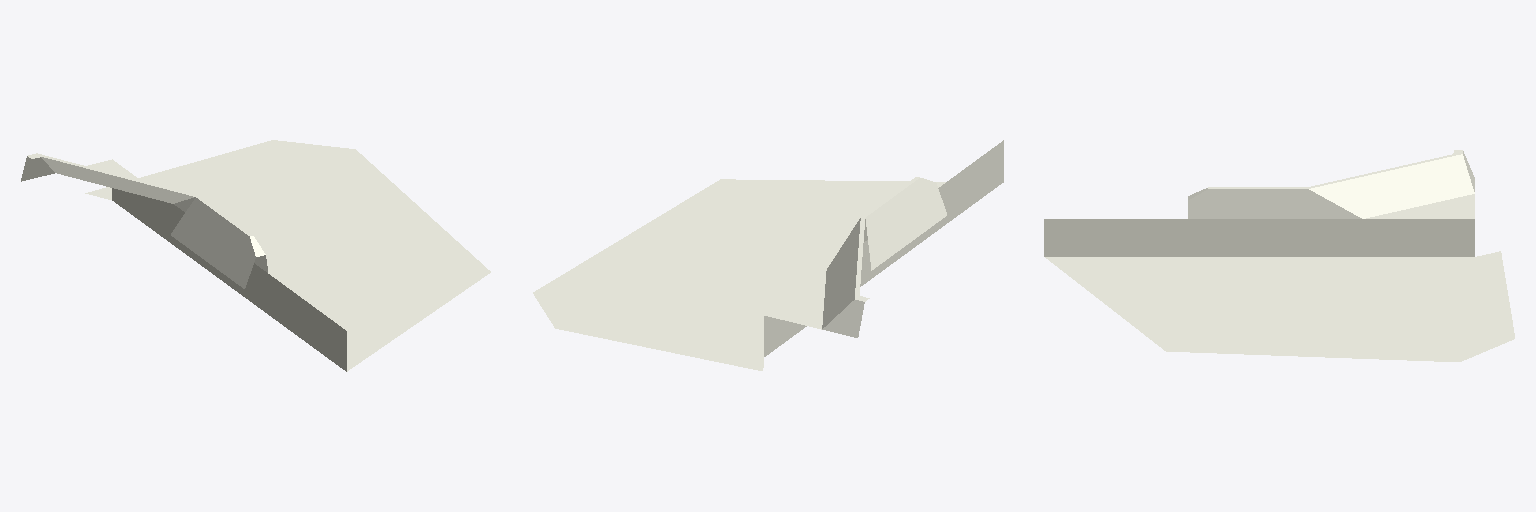
robot.urdf — reduced_ground:
<?xml version="1.0" encoding="utf-8"?>
<!-- This URDF was automatically created by SolidWorks to URDF Exporter! Originally created by Stephen Brawner (brawner@gmail.com) 
     Commit Version: 1.6.0-4-g7f85cfe  Build Version: 1.6.7995.38578
     For more information, please see http://wiki.ros.org/sw_urdf_exporter -->
<robot
  name="reduced_ground">
  <link
    name="ground_link">
    <inertial>
      <origin
        xyz="-0.869074740514908 -0.1583606330783 0.759941854739792"
        rpy="0 0 0" />
      <mass
        value="1.07408917362392E-12" />
      <inertia
        ixx="0"
        ixy="0"
        ixz="0"
        iyy="0"
        iyz="0"
        izz="0" />
    </inertial>
    <visual>
      <origin
        xyz="0 0 0"
        rpy="0 0 0" />
      <geometry>
        <mesh
          filename="package://reduced_ground/meshes/ground_link.STL" />
      </geometry>
      <material
        name="">
        <color
          rgba="1 1 0.949019607843137 1" />
      </material>
    </visual>
    <collision>
      <origin
        xyz="0 0 0"
        rpy="0 0 0" />
      <geometry>
        <mesh
          filename="package://reduced_ground/meshes/ground_link.STL" />
      </geometry>
    </collision>
  </link>
</robot>

--- Facts derived from the render (not from the file) ---
Views: 3 orthographic renders of the robot side by side, from view 1: azimuth 30°, elevation 25°; view 2: azimuth 150°, elevation 25°; view 3: azimuth 270°, elevation 25°.
Robot: reduced_ground — 1 links, 0 joints (none); root link ground_link; default pose: every joint at zero.
Links seen in each view (by area): view 1: ground_link; view 2: ground_link; view 3: ground_link.
Boxes of the visible links, x1,y1,x2,y2 form: ground_link: (21,140,490,371); ground_link: (533,140,1003,370); ground_link: (1044,150,1514,361).
Bounding box of the posed robot: 1.66 × 2.25 × 0.35 m (x, y, z).
1 mesh visuals loaded from 1 distinct referenced files (1 binary STL).
